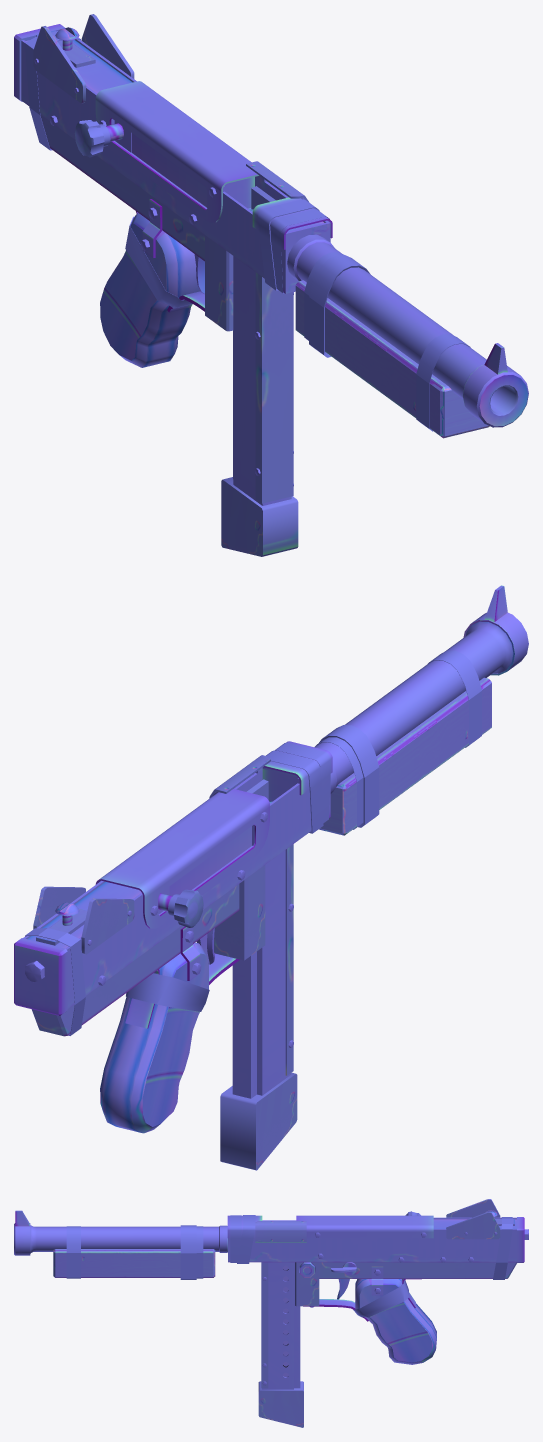
Rendered from TommyGunPreview.fbx.
3 renders of one model, top to bottom at view 1: azimuth 30°, elevation 25°; view 2: azimuth 150°, elevation 25°; view 3: azimuth 270°, elevation 25°, orthographic. The views are drawn at different scales.
Parts seen in each view (by area): view 1: Cube.001; view 2: Cube.001; view 3: Cube.001.
Boxes of the visible parts, left/top/right/bottom form: Cube.001: left=14, top=14, right=528, bottom=556; Cube.001: left=14, top=585, right=528, bottom=1170; Cube.001: left=14, top=1199, right=528, bottom=1427.
Bounding box in the file's own units: 0.3868 × 1.72 × 3.69.
